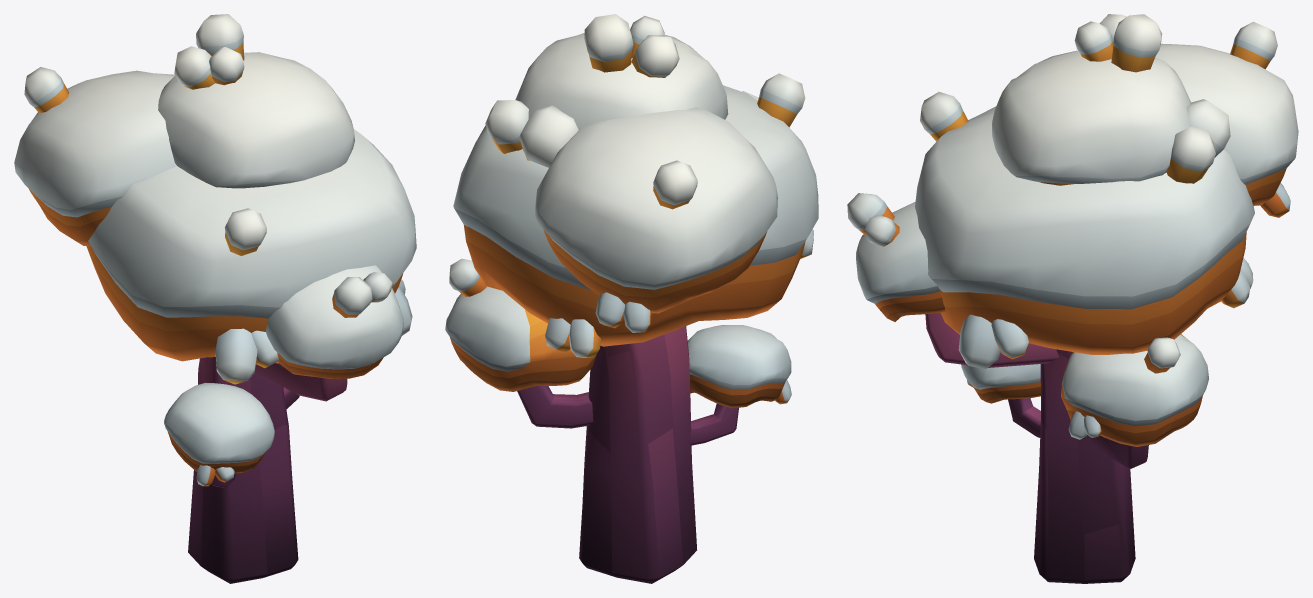
File: grassland_tree_col2_4_snow.fbx
3 views of the same model, side by side, from view 1: azimuth 30°, elevation 25°; view 2: azimuth 150°, elevation 25°; view 3: azimuth 270°, elevation 25° (orthographic). The views are drawn at different scales.
Parts seen in each view (by area): view 1: grassland_tree_col2_4_snow; view 2: grassland_tree_col2_4_snow; view 3: grassland_tree_col2_4_snow.
Part boxes in pixels (x1,y1,x2,y2): grassland_tree_col2_4_snow: [14, 14, 416, 583]; grassland_tree_col2_4_snow: [445, 14, 818, 583]; grassland_tree_col2_4_snow: [847, 14, 1298, 583].
Bounding box in the file's own units: 540 × 917 × 681.
